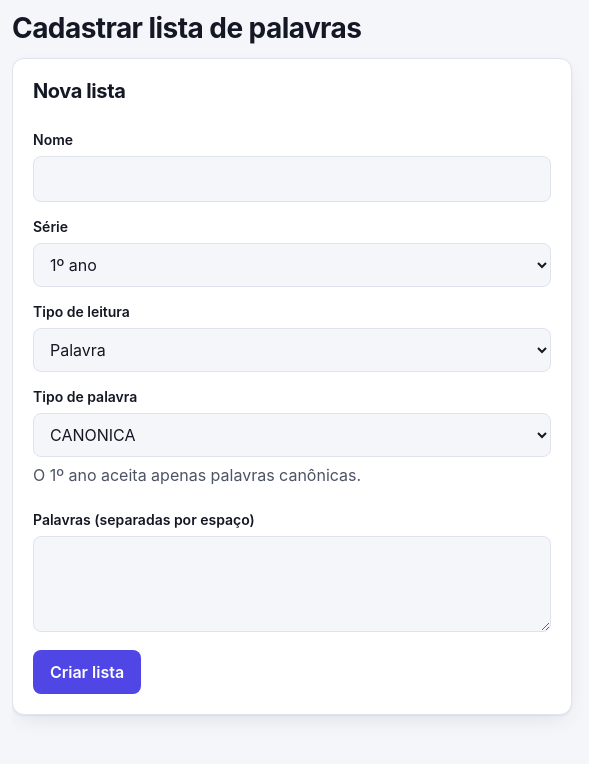
Test: ListasPalavrasPage › creates a valid lista (série 2), allows NAO_CANONICA and shows "Salvo com sucesso"
Step 1. Type "Lista Nova" into the field labelled "Nome" → (292, 179), box [33, 156, 551, 202]
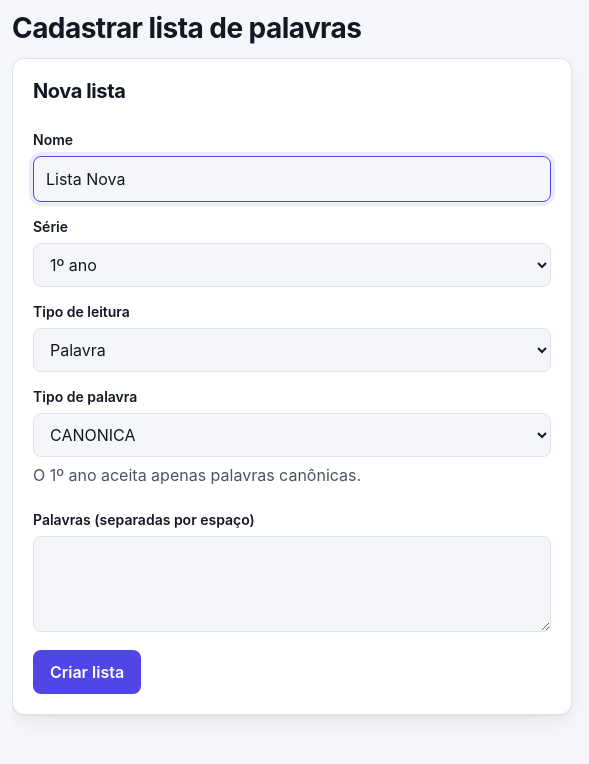
Step 2. Select "2º ano" in the dropdown labelled "Série" → (292, 265), box [33, 243, 551, 287]
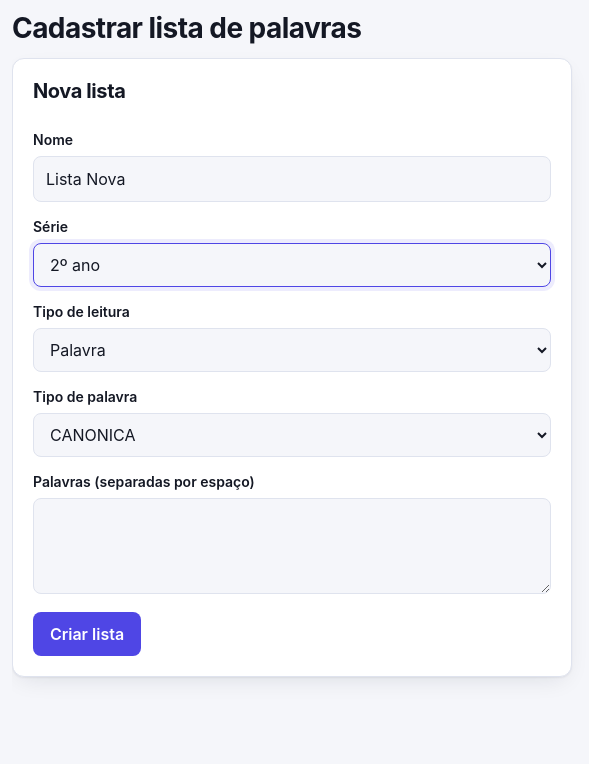
Step 3. Type "gato bola" into the text box labelled "Palavras (separadas por espaço)" → (292, 546), box [33, 498, 551, 594]
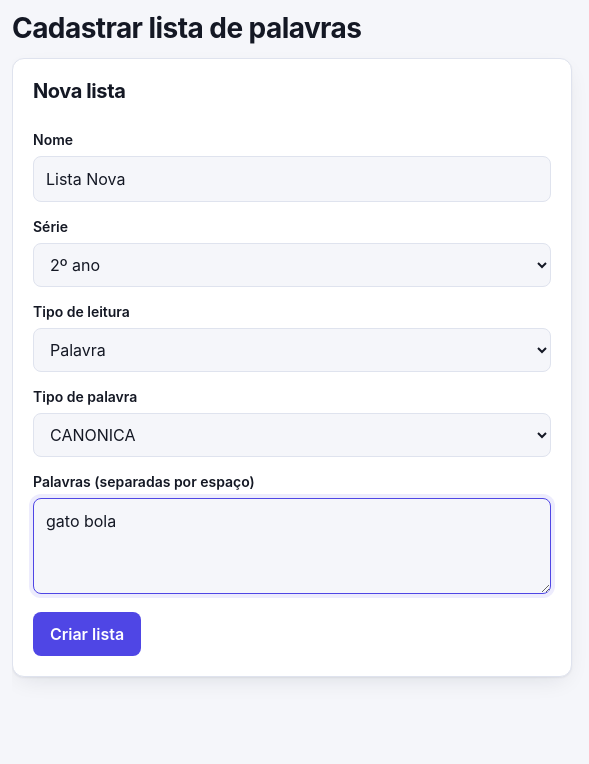
Step 4. Select "NAO_CANONICA" in the dropdown labelled "Tipo de palavra" → (292, 435), box [33, 413, 551, 457]
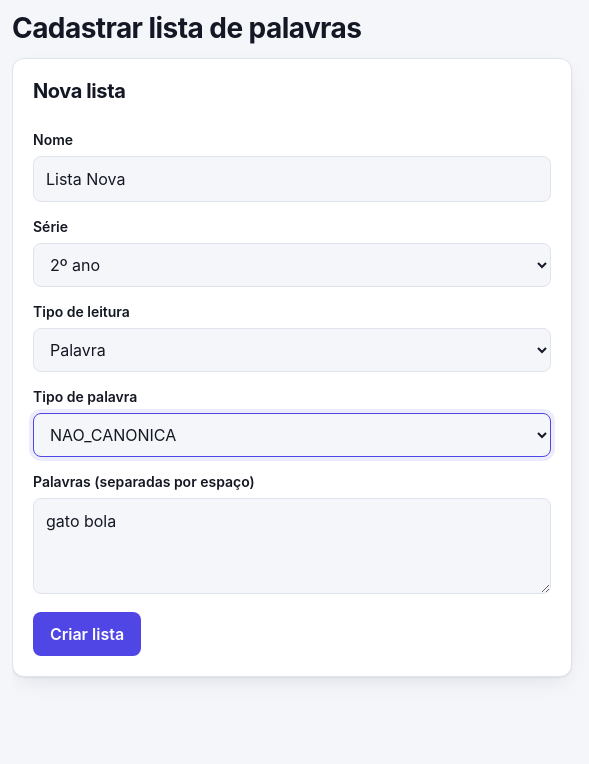
Step 5. Click the button "Criar lista" → (87, 634), box [33, 612, 141, 656]
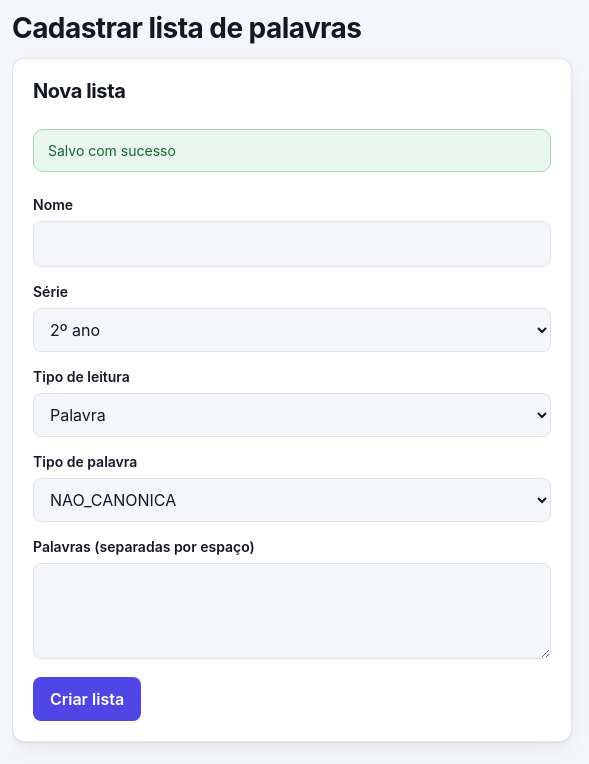
Now the text "Salvo com sucesso" is shown, box [33, 129, 551, 172]
